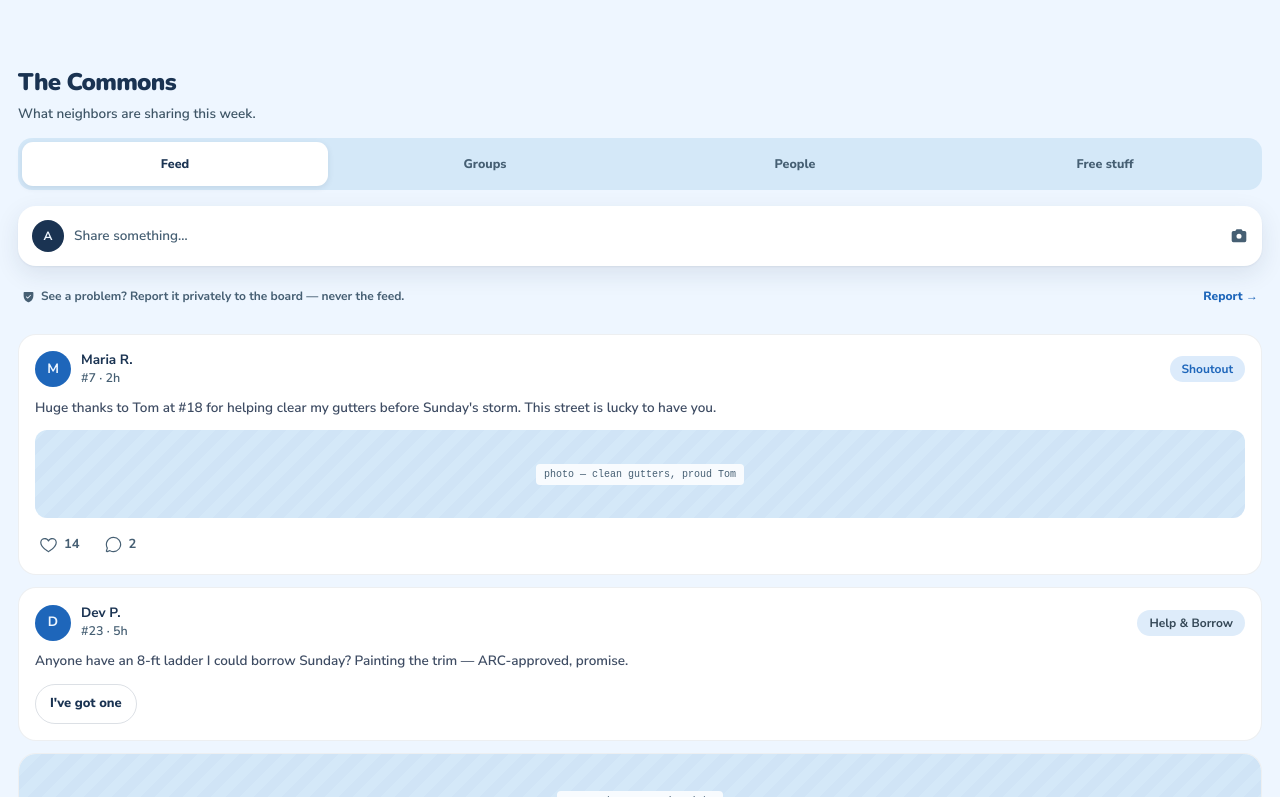
like toggles heart count
Click the button "14" at [59, 544], box [35,522,84,566]
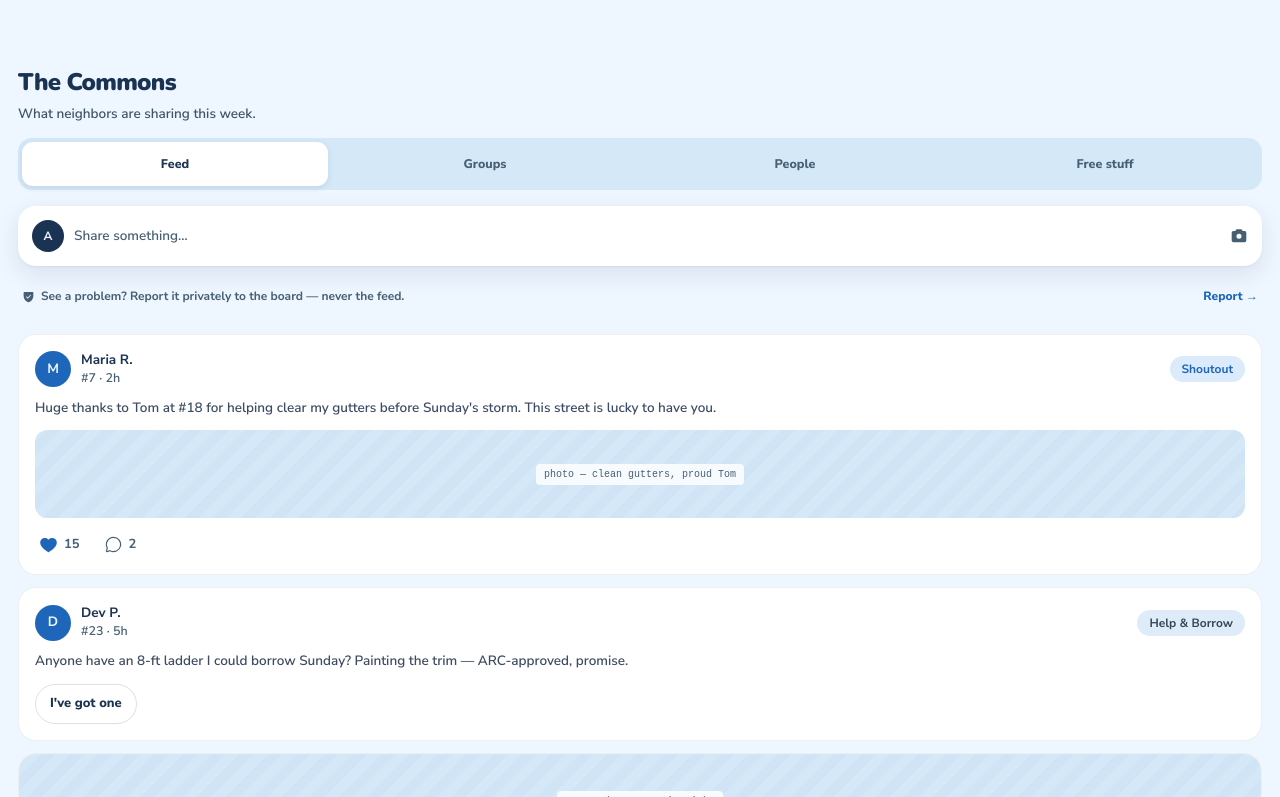
Now the text "15" is shown, box [64,535,80,554]
